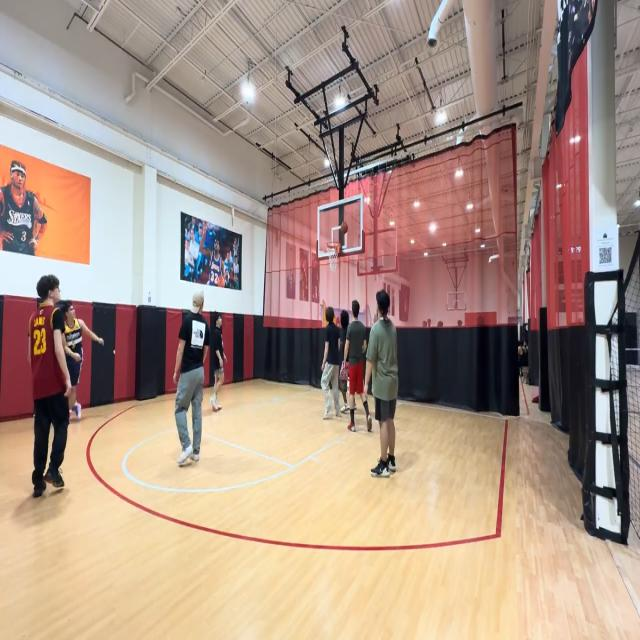Basketball: (341, 221, 348, 234)
Basketball Rim: (325, 241, 341, 272)
